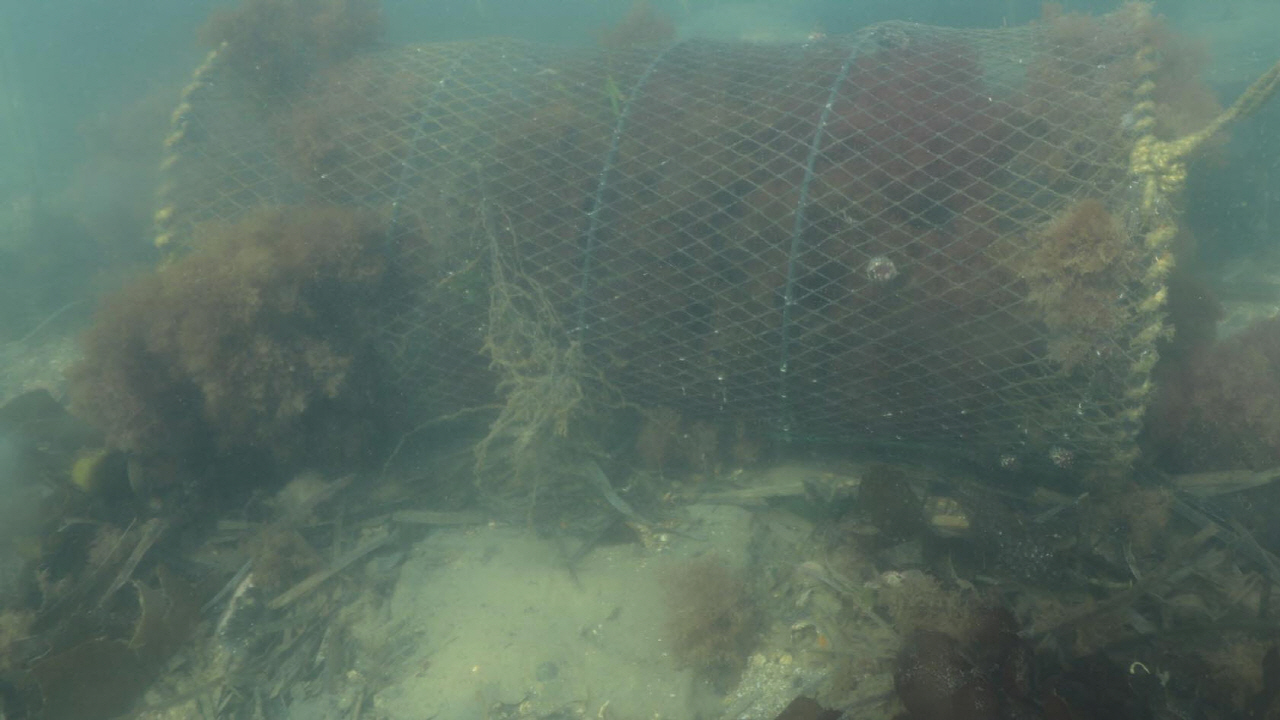bundle of ropes: (1129, 64, 1279, 193)
spring fish trap: (154, 3, 1177, 492)
